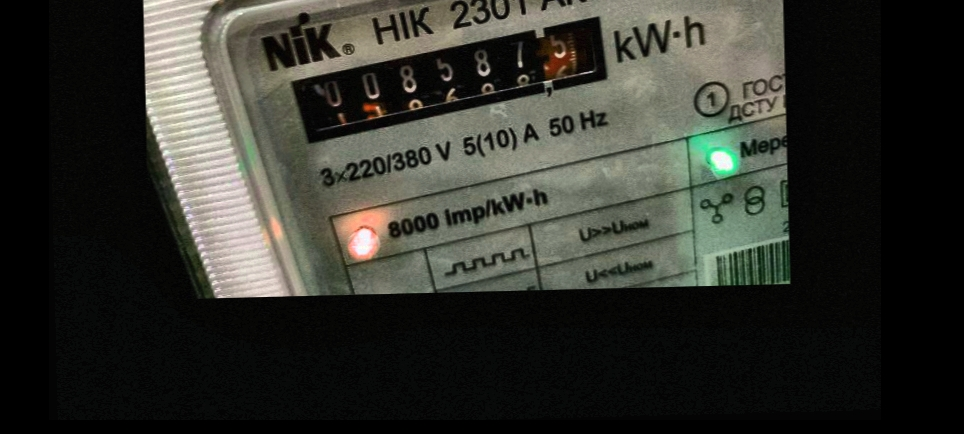0: (358, 66, 385, 101), (320, 75, 347, 108)
5: (434, 51, 458, 83), (547, 27, 570, 58)
6: (553, 62, 571, 79)
7: (508, 37, 531, 71)
8: (397, 61, 422, 94), (471, 44, 494, 78)
screen: (282, 14, 632, 145)
